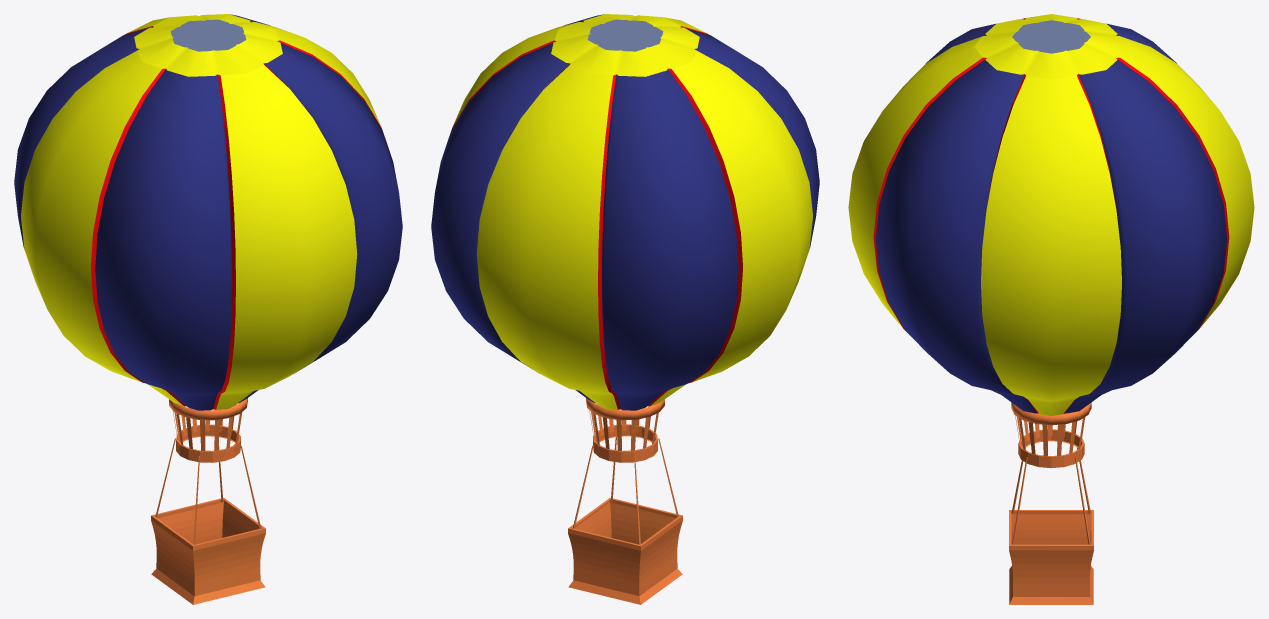
File: hot_air_balloon_2-v2.glb
The picture shows the model from 3 angles, left to right: view 1: azimuth 30°, elevation 25°; view 2: azimuth 150°, elevation 25°; view 3: azimuth 270°, elevation 25°; orthographic projection.
Visible parts, largest first — view 1: Object_83; view 2: Object_83; view 3: Object_83.
Part boxes in pixels (x1,y1,x2,y2): Object_83: (14, 14, 402, 604); Object_83: (431, 14, 819, 604); Object_83: (848, 14, 1254, 604).
Bounding box in the file's own units: 5.38 × 8.05 × 5.38.
1 material, 1 textured.
